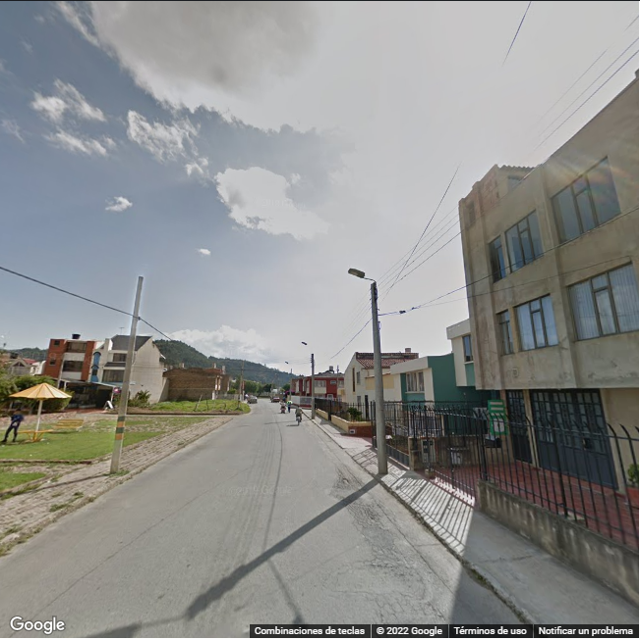D00: (358, 481, 426, 558)
D40: (323, 558, 430, 598)
